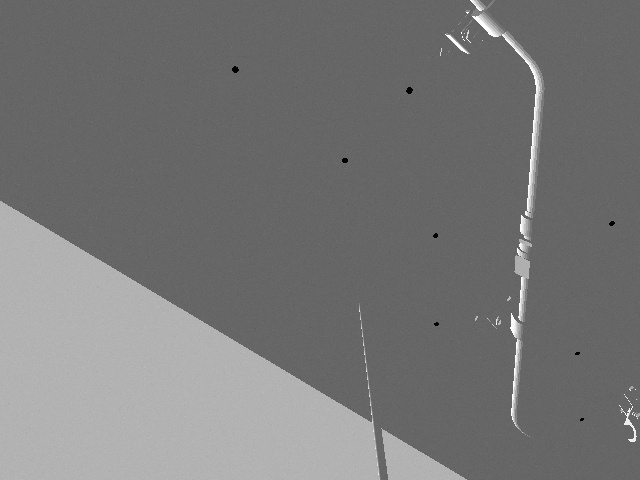hole: (230, 64, 241, 75), (404, 85, 415, 96), (340, 156, 350, 165), (607, 219, 617, 228), (431, 231, 440, 240), (432, 320, 441, 328), (573, 350, 581, 357), (578, 416, 585, 422)
